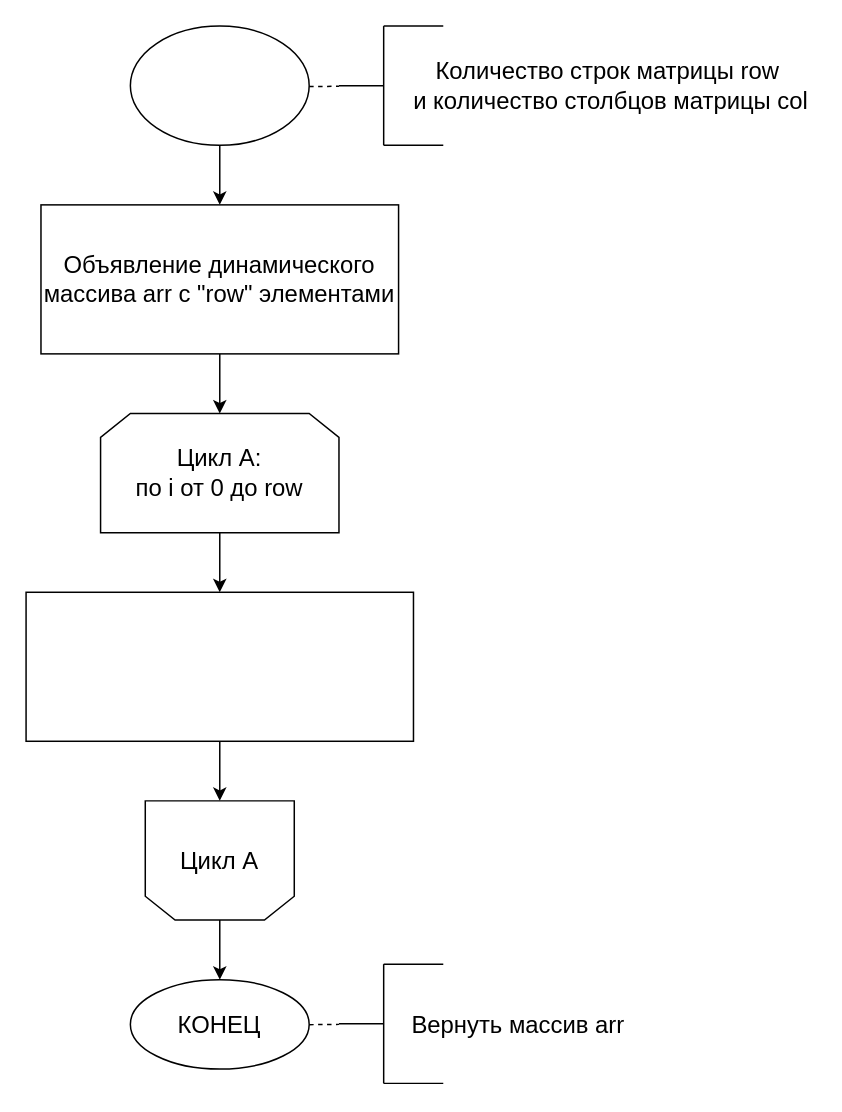
The diagram is 842 pixels wide and 1112 high, and some of its shapes have lost their labels. The shapes that lost their labels are listed below. From the top down, each one's box as (x1, y1, x2, y2) in pixels, then its label:
(129, 25, 309, 145): НАЧАЛО
(25, 591, 413, 741): Объявление динамического массива arr[i] с "col" элементами
